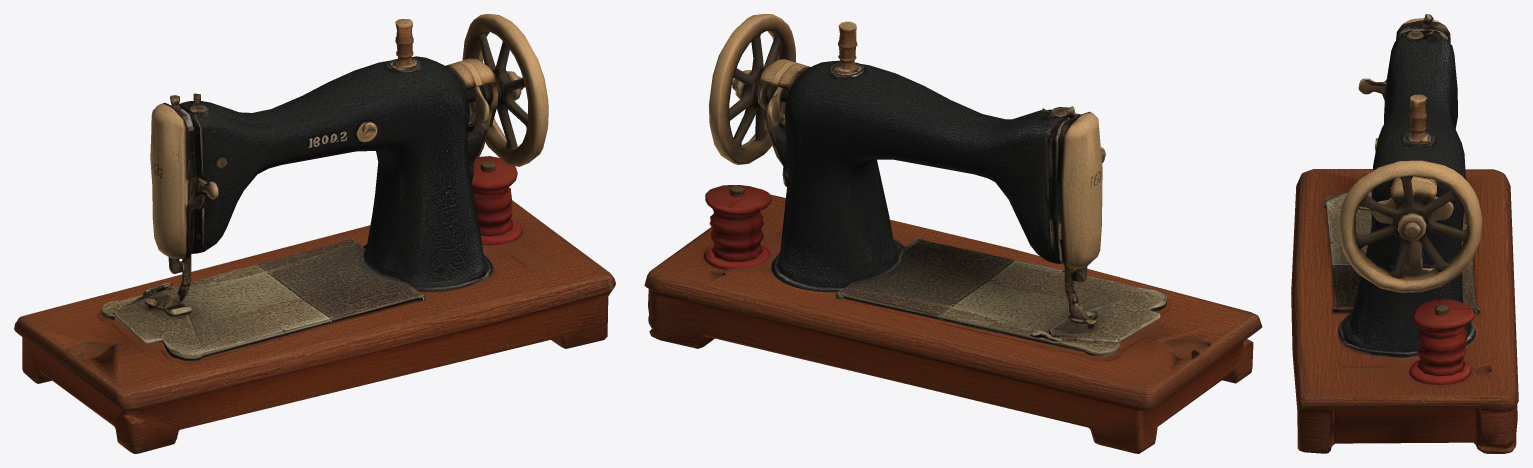
Rendered from atd_sewing_machine.glb.
The picture shows the model from 3 angles, left to right: view 1: azimuth 30°, elevation 25°; view 2: azimuth 150°, elevation 25°; view 3: azimuth 270°, elevation 25°; orthographic projection. The views are drawn at different scales.
Visible parts, largest first — view 1: a45c0c99_04ec_42e5_b133_1884b587bce9; view 2: a45c0c99_04ec_42e5_b133_1884b587bce9; view 3: a45c0c99_04ec_42e5_b133_1884b587bce9.
Part boxes in pixels (bbox=[...]): a45c0c99_04ec_42e5_b133_1884b587bce9: bbox=[14, 14, 615, 453]; a45c0c99_04ec_42e5_b133_1884b587bce9: bbox=[644, 14, 1262, 453]; a45c0c99_04ec_42e5_b133_1884b587bce9: bbox=[1291, 14, 1518, 453].
Bounding box in the file's own units: 0.9995 × 0.5884 × 0.4174.
Materials: 1 (1 with a texture image).
